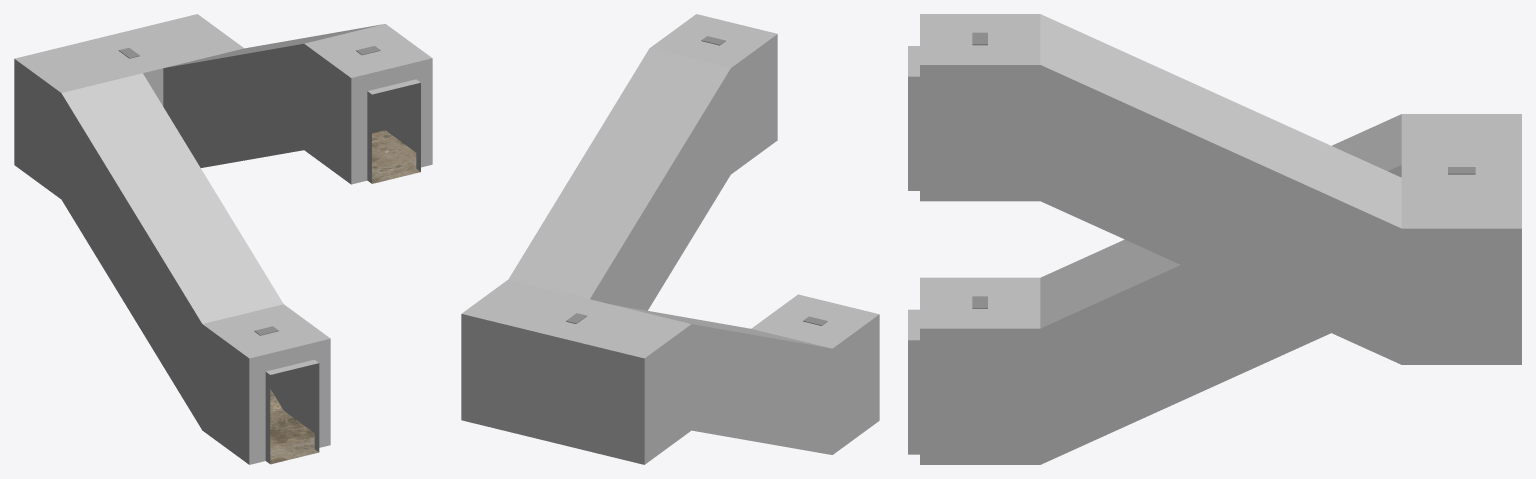
File: Staircase_2.fbx
3 views of the same model, side by side, from view 1: azimuth 30°, elevation 25°; view 2: azimuth 150°, elevation 25°; view 3: azimuth 270°, elevation 25° (orthographic). The views are drawn at different scales.
Visible parts, largest first — view 1: Cube.039; view 2: Cube.039; view 3: Cube.039.
Boxes of the visible parts, x1,y1,x2,y2 form: Cube.039: [14, 14, 432, 464]; Cube.039: [461, 14, 879, 464]; Cube.039: [908, 14, 1521, 464].
Bounding box in the file's own units: 450 × 852 × 1020.
